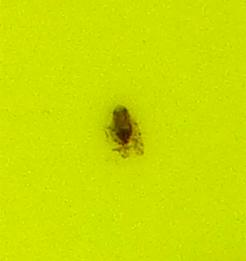Hemiptera: (100, 100, 146, 161)
